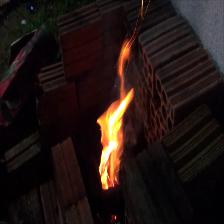smoke: (80, 31, 163, 202)
